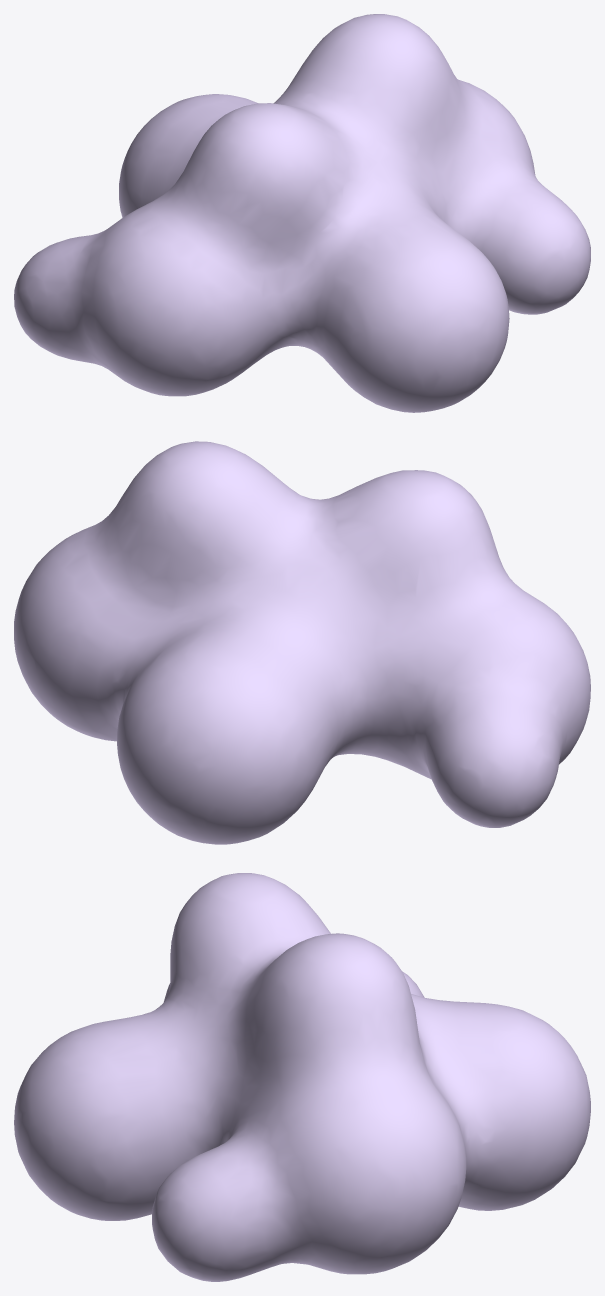
The model's file is recipe-sugar-mound.glb.
The picture shows the model from 3 angles, top to bottom: view 1: azimuth 30°, elevation 25°; view 2: azimuth 150°, elevation 25°; view 3: azimuth 270°, elevation 25°; orthographic projection. The views are drawn at different scales.
Visible parts, largest first — view 1: Recipe sugar snow mound; view 2: Recipe sugar snow mound; view 3: Recipe sugar snow mound.
Boxes of the visible parts, x1=… form: Recipe sugar snow mound: x1=14, y1=14, x2=590, y2=412; Recipe sugar snow mound: x1=14, y1=441, x2=590, y2=844; Recipe sugar snow mound: x1=14, y1=873, x2=590, y2=1281.
Bounding box in the file's own units: 1.8 × 1.01 × 1.72.
